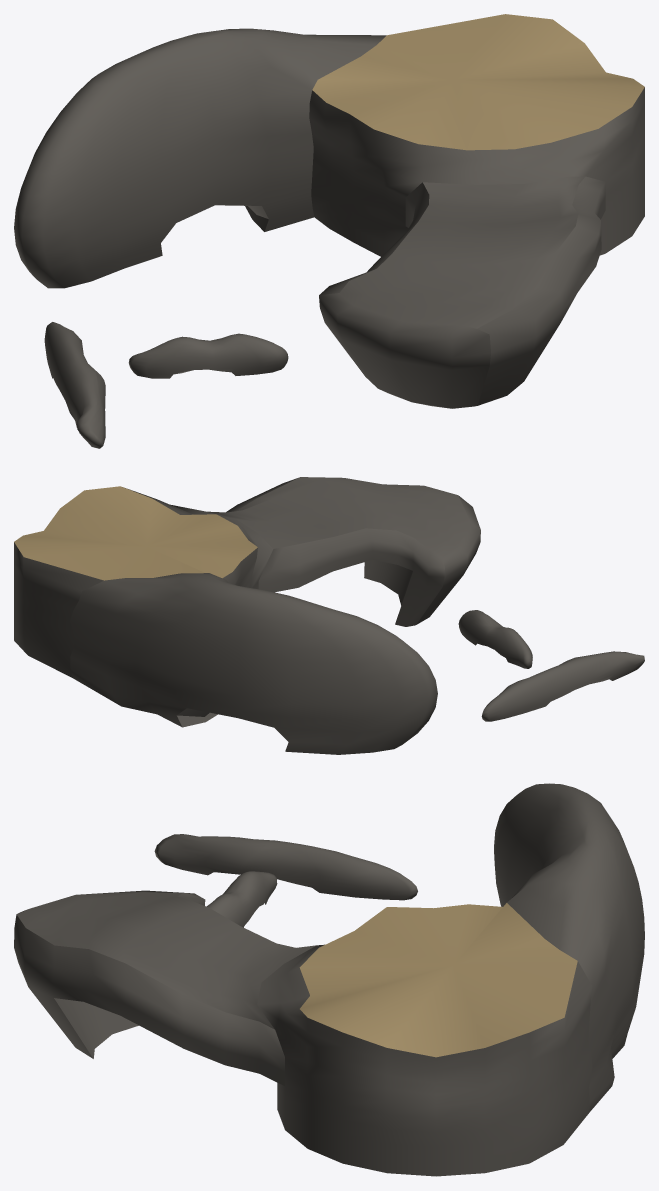
The model's file is Tree_2.fbx.
3 views of the same model, one above another, from view 1: azimuth 30°, elevation 25°; view 2: azimuth 150°, elevation 25°; view 3: azimuth 270°, elevation 25° (orthographic). The views are drawn at different scales.
Visible parts, largest first — view 1: Tree_2_Main, root_2, root_1; view 2: Tree_2_Main, root_1, root_2; view 3: Tree_2_Main, root_1, root_2.
Boxes of the visible parts, <box> form: Tree_2_Main: <box>14,14,644,408</box>; root_2: <box>128,333,288,378</box>; root_1: <box>44,322,105,448</box>; Tree_2_Main: <box>14,477,480,754</box>; root_1: <box>481,651,644,721</box>; root_2: <box>458,610,532,668</box>; Tree_2_Main: <box>14,783,644,1176</box>; root_1: <box>154,834,417,900</box>; root_2: <box>206,871,277,927</box>.
Size of the model in its own units: 121 by 32.84 by 96.56.
